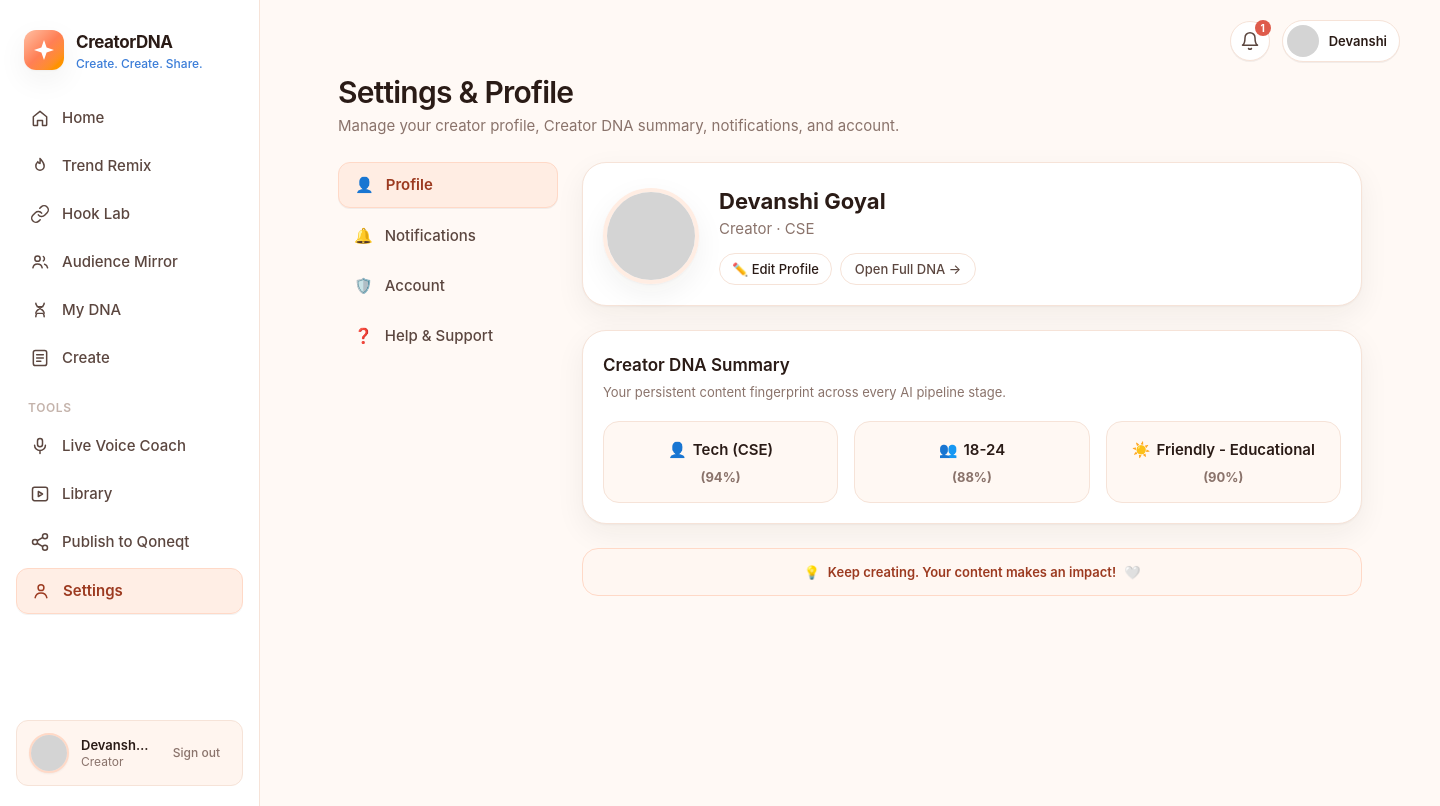
Test: SettingsPage (Screen 11) › renders Devanshi Goyal profile and Creator DNA Summary cards
This screenshot has width=1440, height=806.
Check: the heading "Creator DNA Summary" is shown, box [603,355,790,375]
Check: the text "Devanshi Goyal" is shown, box [81,736,151,754]
Click the button "✏️ Edit Profile": [775, 269] box [719,253,832,285]
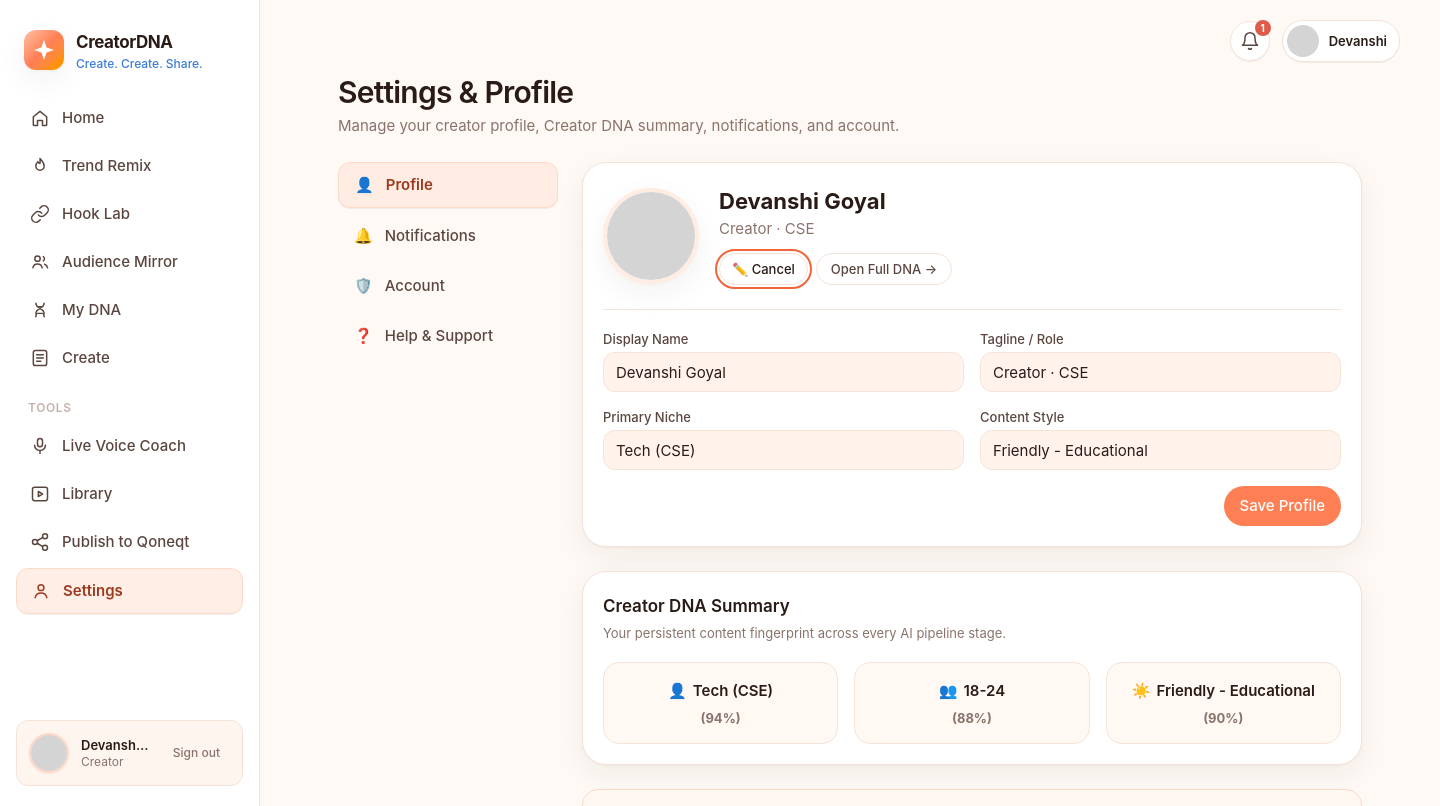
Check: the field labelled "Display Name" is shown, box [603,352,964,392]
